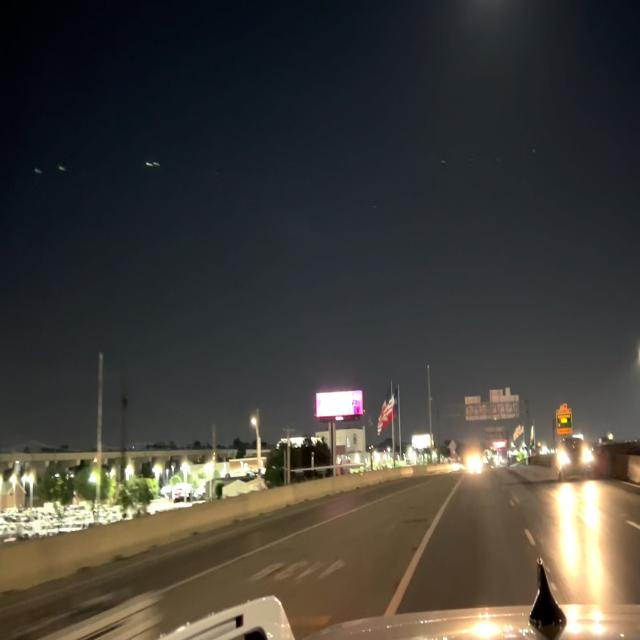back-of-sign: (461, 388, 523, 425)
